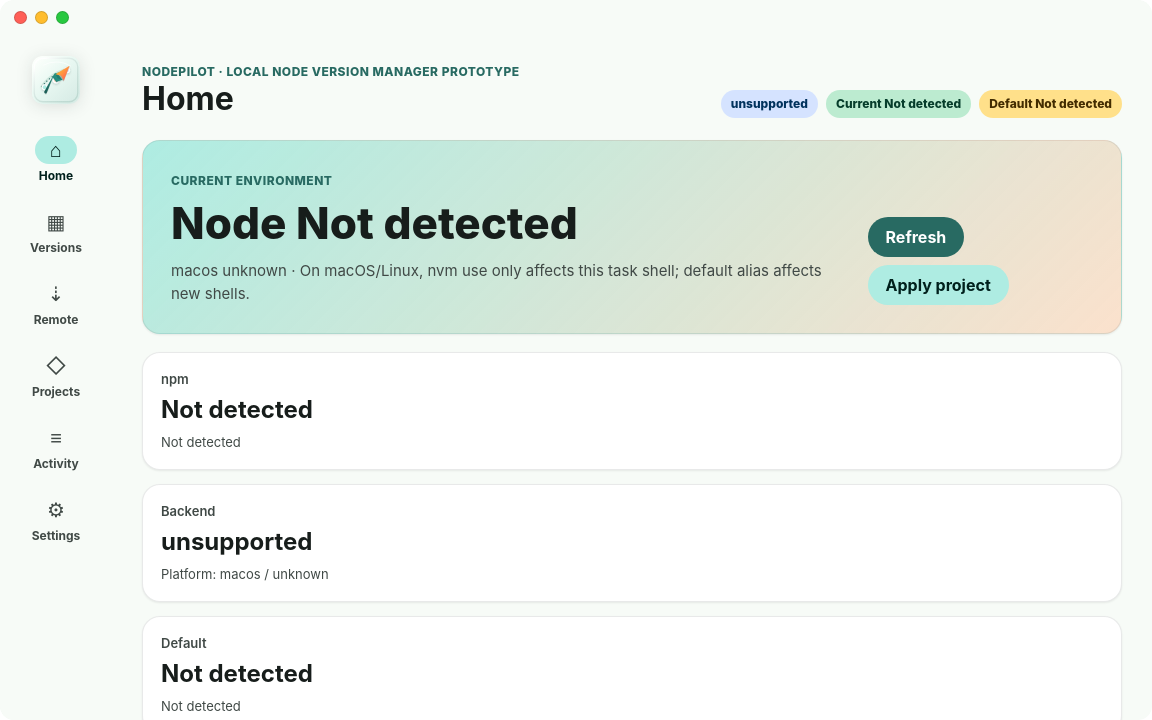
it: App › keeps an unsupported empty snapshot when backend refresh fails in Tauri
Expected: the heading "Node Not detected" is shown, x1=171 y1=196 x2=578 y2=250
Expected: the text "unsupported" next to "Current Not detected" is shown, x1=731 y1=96 x2=808 y2=111
Click the button with aria-label "Open Versions": (56, 232) x1=14 y1=200 x2=98 y2=264
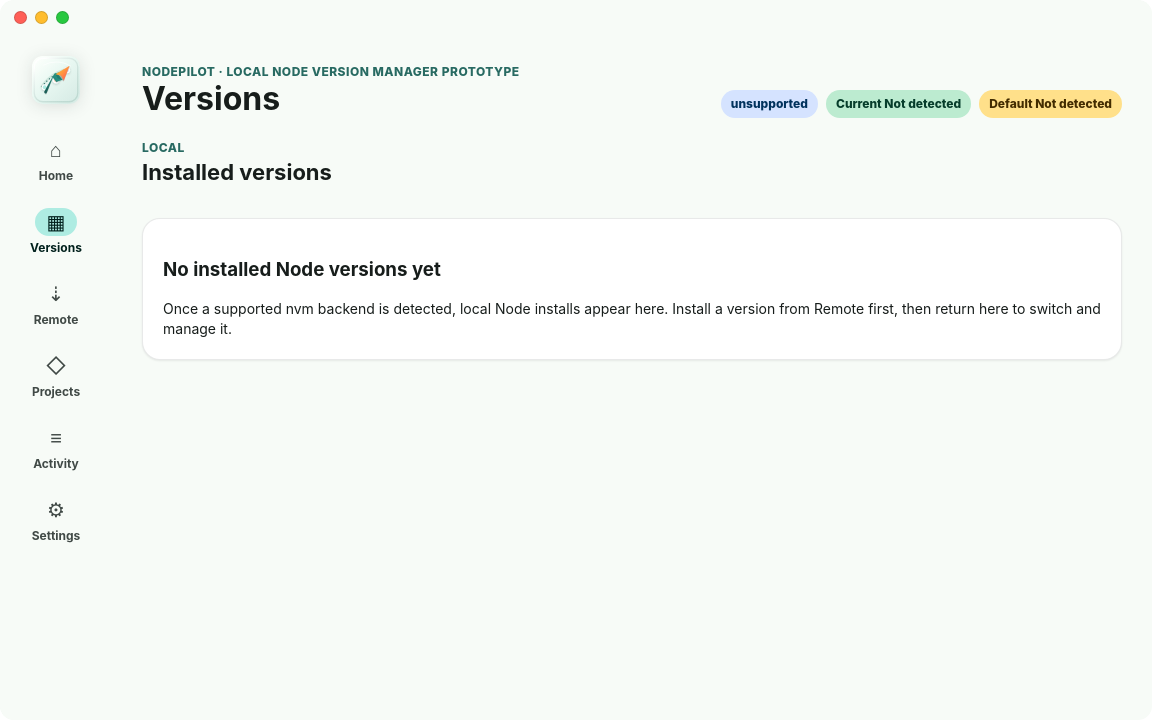
Expected: the heading "No installed Node versions yet" is shown, x1=163 y1=258 x2=441 y2=281
Expected: the text "Once a supported nvm backend is detected, local Node installs appear here. Install a version from Remote first, then ret" is shown, x1=163 y1=300 x2=1101 y2=337
Click the button with aria-label "Open Activity": (56, 448) x1=14 y1=416 x2=98 y2=480
(page scrolled)
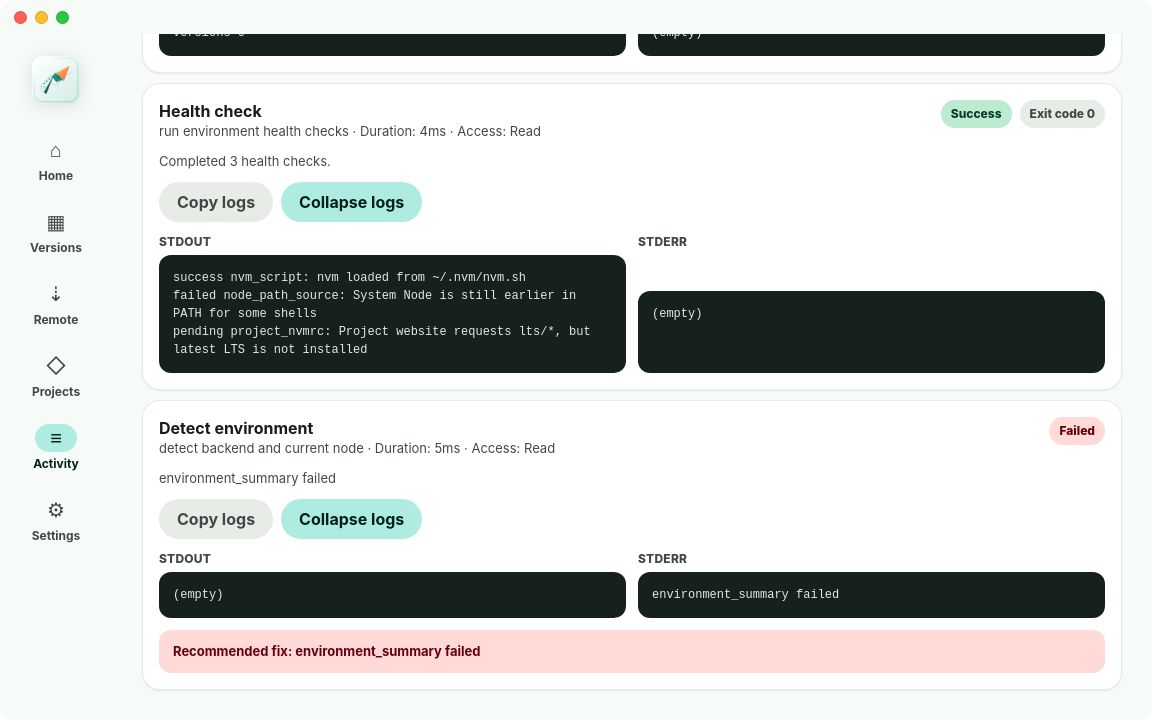
Expected: the 1st text "environment_summary failed" is shown, x1=159 y1=470 x2=336 y2=486
Expected: the text "Failed" is shown, x1=1049 y1=417 x2=1105 y2=445
